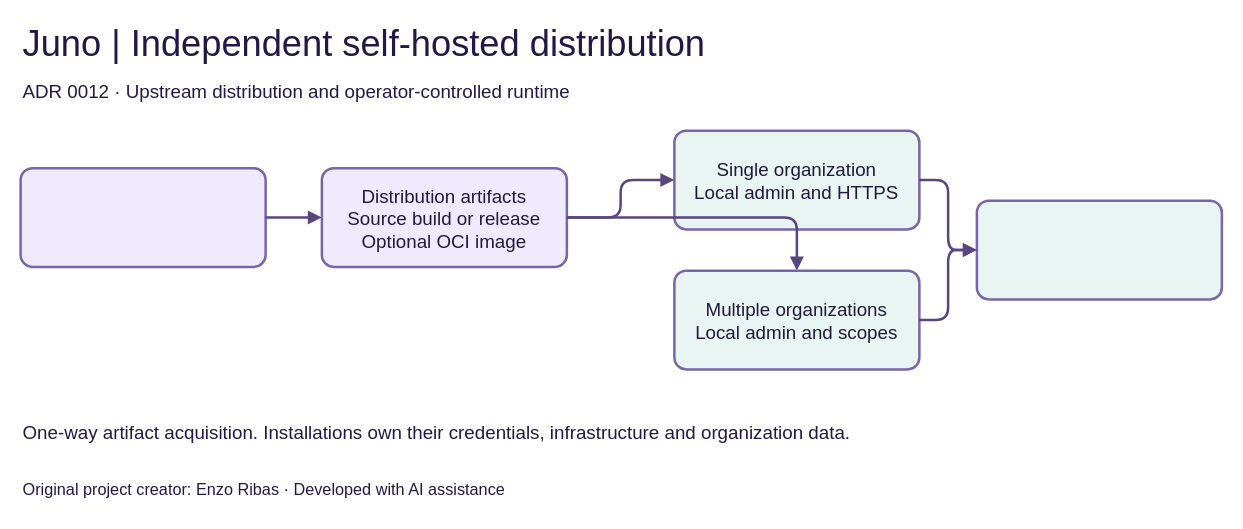
Some shapes in this 1243 by 529 pixel diagram are drawn without their labels. Here are the shapes that lost their labels. From the top down, the box of each, then its label:
(19, 166, 266, 268): Upstream project Versioned source and docs
(975, 199, 1222, 300): Operator-controlled persistence and backups
